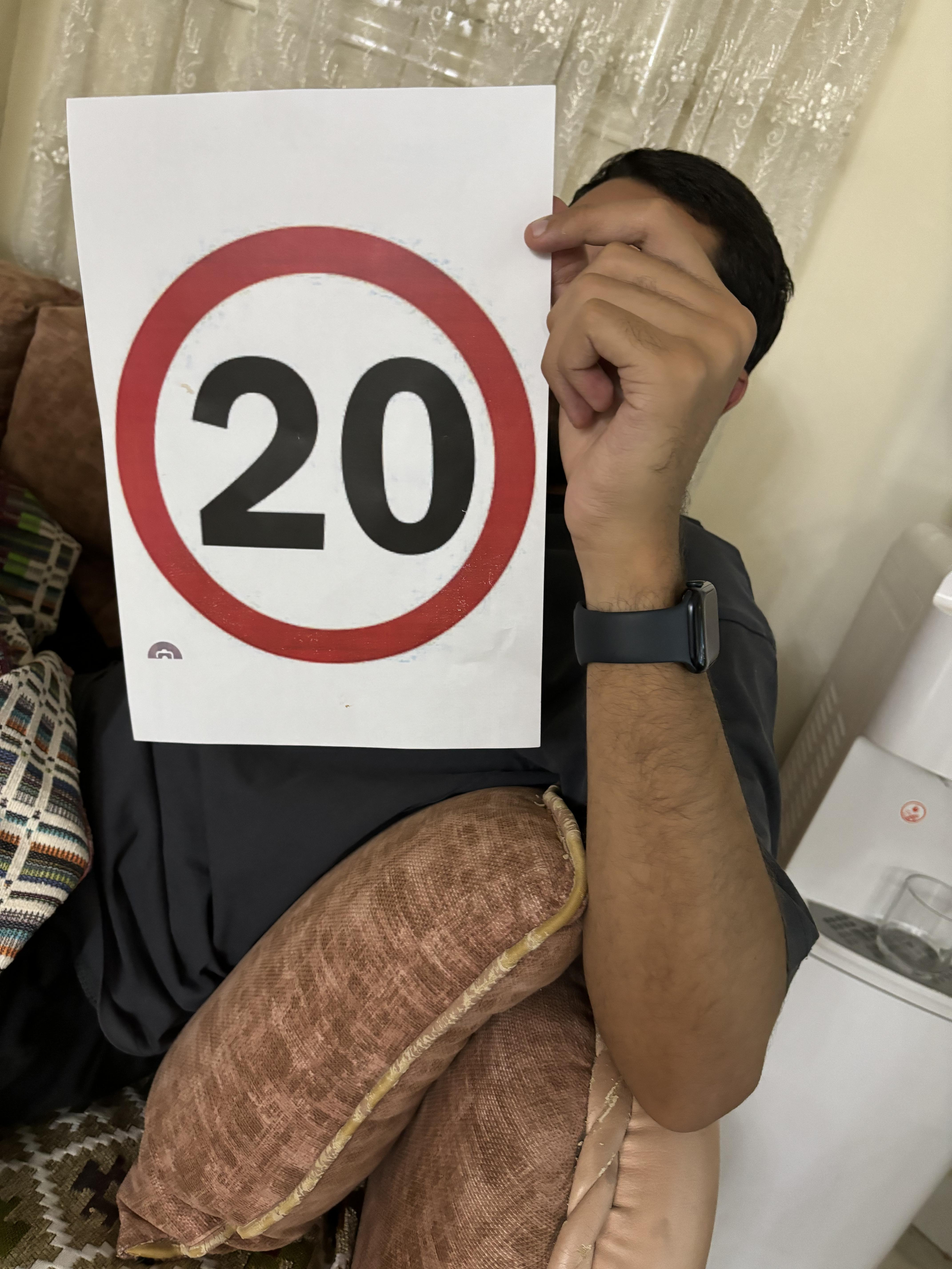20-Speed: (115, 218, 540, 664)
